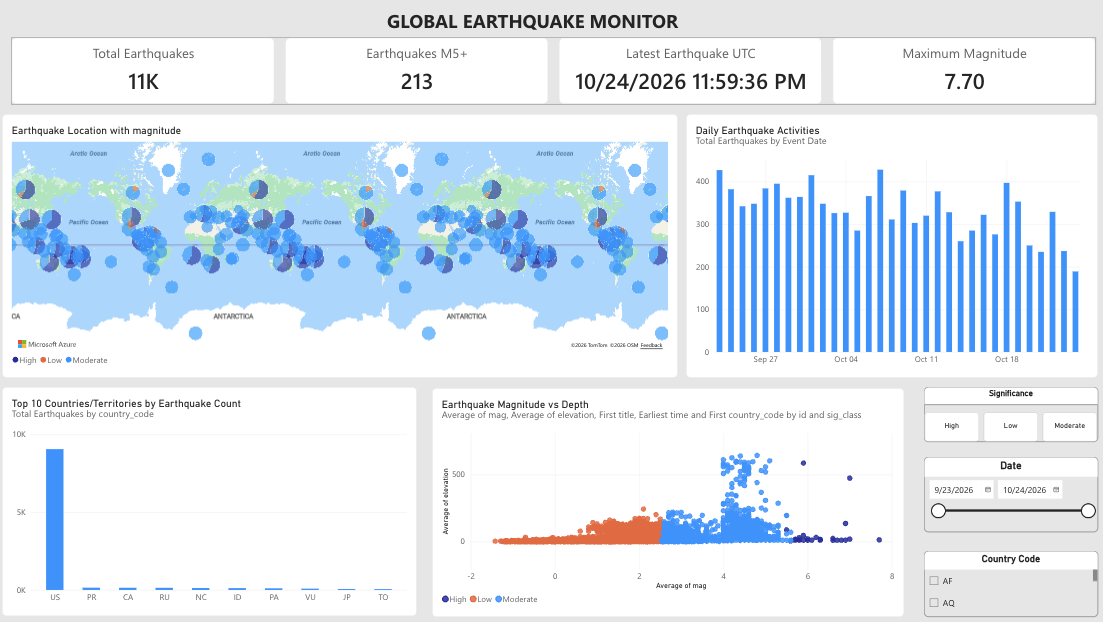

What the dashboard file says about the page in this screenshot:
{"tool":"powerbi","page":{"name":"Page 2","canvas":[1920,1080],"ordinal":1},"visuals":[{"type":"azureMap","title":"Earthquake Location with magnitude","fields":{"Category":["earthquake_events_gold.country_code"],"Series":["earthquake_events_gold.sig_class"],"Size":["Max(earthquake_events_gold.sig)"]},"box":[10.4,197,1168.2,456.2],"z":0},{"type":"slicer","title":"Date","fields":{"Values":["earthquake_events_gold.time"]},"box":[1603.7,789.8,300.7,129.6],"z":1000},{"type":"advancedSlicerVisual","title":"Significance","fields":{"Values":["earthquake_events_gold.sig_class"]},"box":[1603.7,668.8,300.7,95],"z":2000},{"type":"cardVisual","fields":{"Data":["earthquake_events_gold.Total Earthquakes","earthquake_events_gold.Earthquakes M5+","earthquake_events_gold.Latest Earthquake UTC","earthquake_events_gold.Maximum Magnitude"]},"box":[25.9,63.9,1878.5,117.5],"z":3000},{"type":"clusteredColumnChart","title":"Daily Earthquake Activities","fields":{"Category":["earthquake_events_gold.Event Date"],"Y":["earthquake_events_gold.Total Earthquakes"]},"box":[1192.4,197,712,456.2],"z":4000},{"type":"clusteredColumnChart","title":"Top 10 Countries/Territories by Earthquake Count","fields":{"Category":["earthquake_events_gold.country_code"],"Y":["earthquake_events_gold.Total Earthquakes"]},"box":[10.4,668.8,717.2,395.8],"z":4001},{"type":"scatterChart","title":"Earthquake Magnitude vs Depth","fields":{"Category":["earthquake_events_gold.id"],"Series":["earthquake_events_gold.sig_class"],"X":["Avg(earthquake_events_gold.mag)"],"Y":["Avg(earthquake_events_gold.elevation)"]},"box":[753.5,670.5,815.7,395.8],"z":4002},{"type":"slicer","title":"Country Code","fields":{"Values":["earthquake_events_gold.country_code"]},"box":[1603.7,952.2,300.7,114.1],"z":4003},{"type":"textbox","box":[675.7,13.8,594.5,50.1],"z":4004}]}

Visuals, with their boxes in screenshot pixels (x1, y1, x2, y2), scaled from the page's 1920x1080 canvas onto the 1103x622 screenshot:
"Earthquake Location with magnitude" azureMap: x1=6 y1=113 x2=677 y2=376
"Date" slicer: x1=921 y1=455 x2=1094 y2=530
"Significance" advancedSlicerVisual: x1=921 y1=385 x2=1094 y2=440
cardVisual - earthquake_events_gold.Total Earthquakes x earthquake_events_gold.Earthquakes M5+: x1=15 y1=37 x2=1094 y2=104
"Daily Earthquake Activities" clusteredColumnChart: x1=685 y1=113 x2=1094 y2=376
"Top 10 Countries/Territories by Earthquake Count" clusteredColumnChart: x1=6 y1=385 x2=418 y2=613
"Earthquake Magnitude vs Depth" scatterChart: x1=433 y1=386 x2=901 y2=614
"Country Code" slicer: x1=921 y1=548 x2=1094 y2=614
textbox: x1=388 y1=8 x2=730 y2=37
